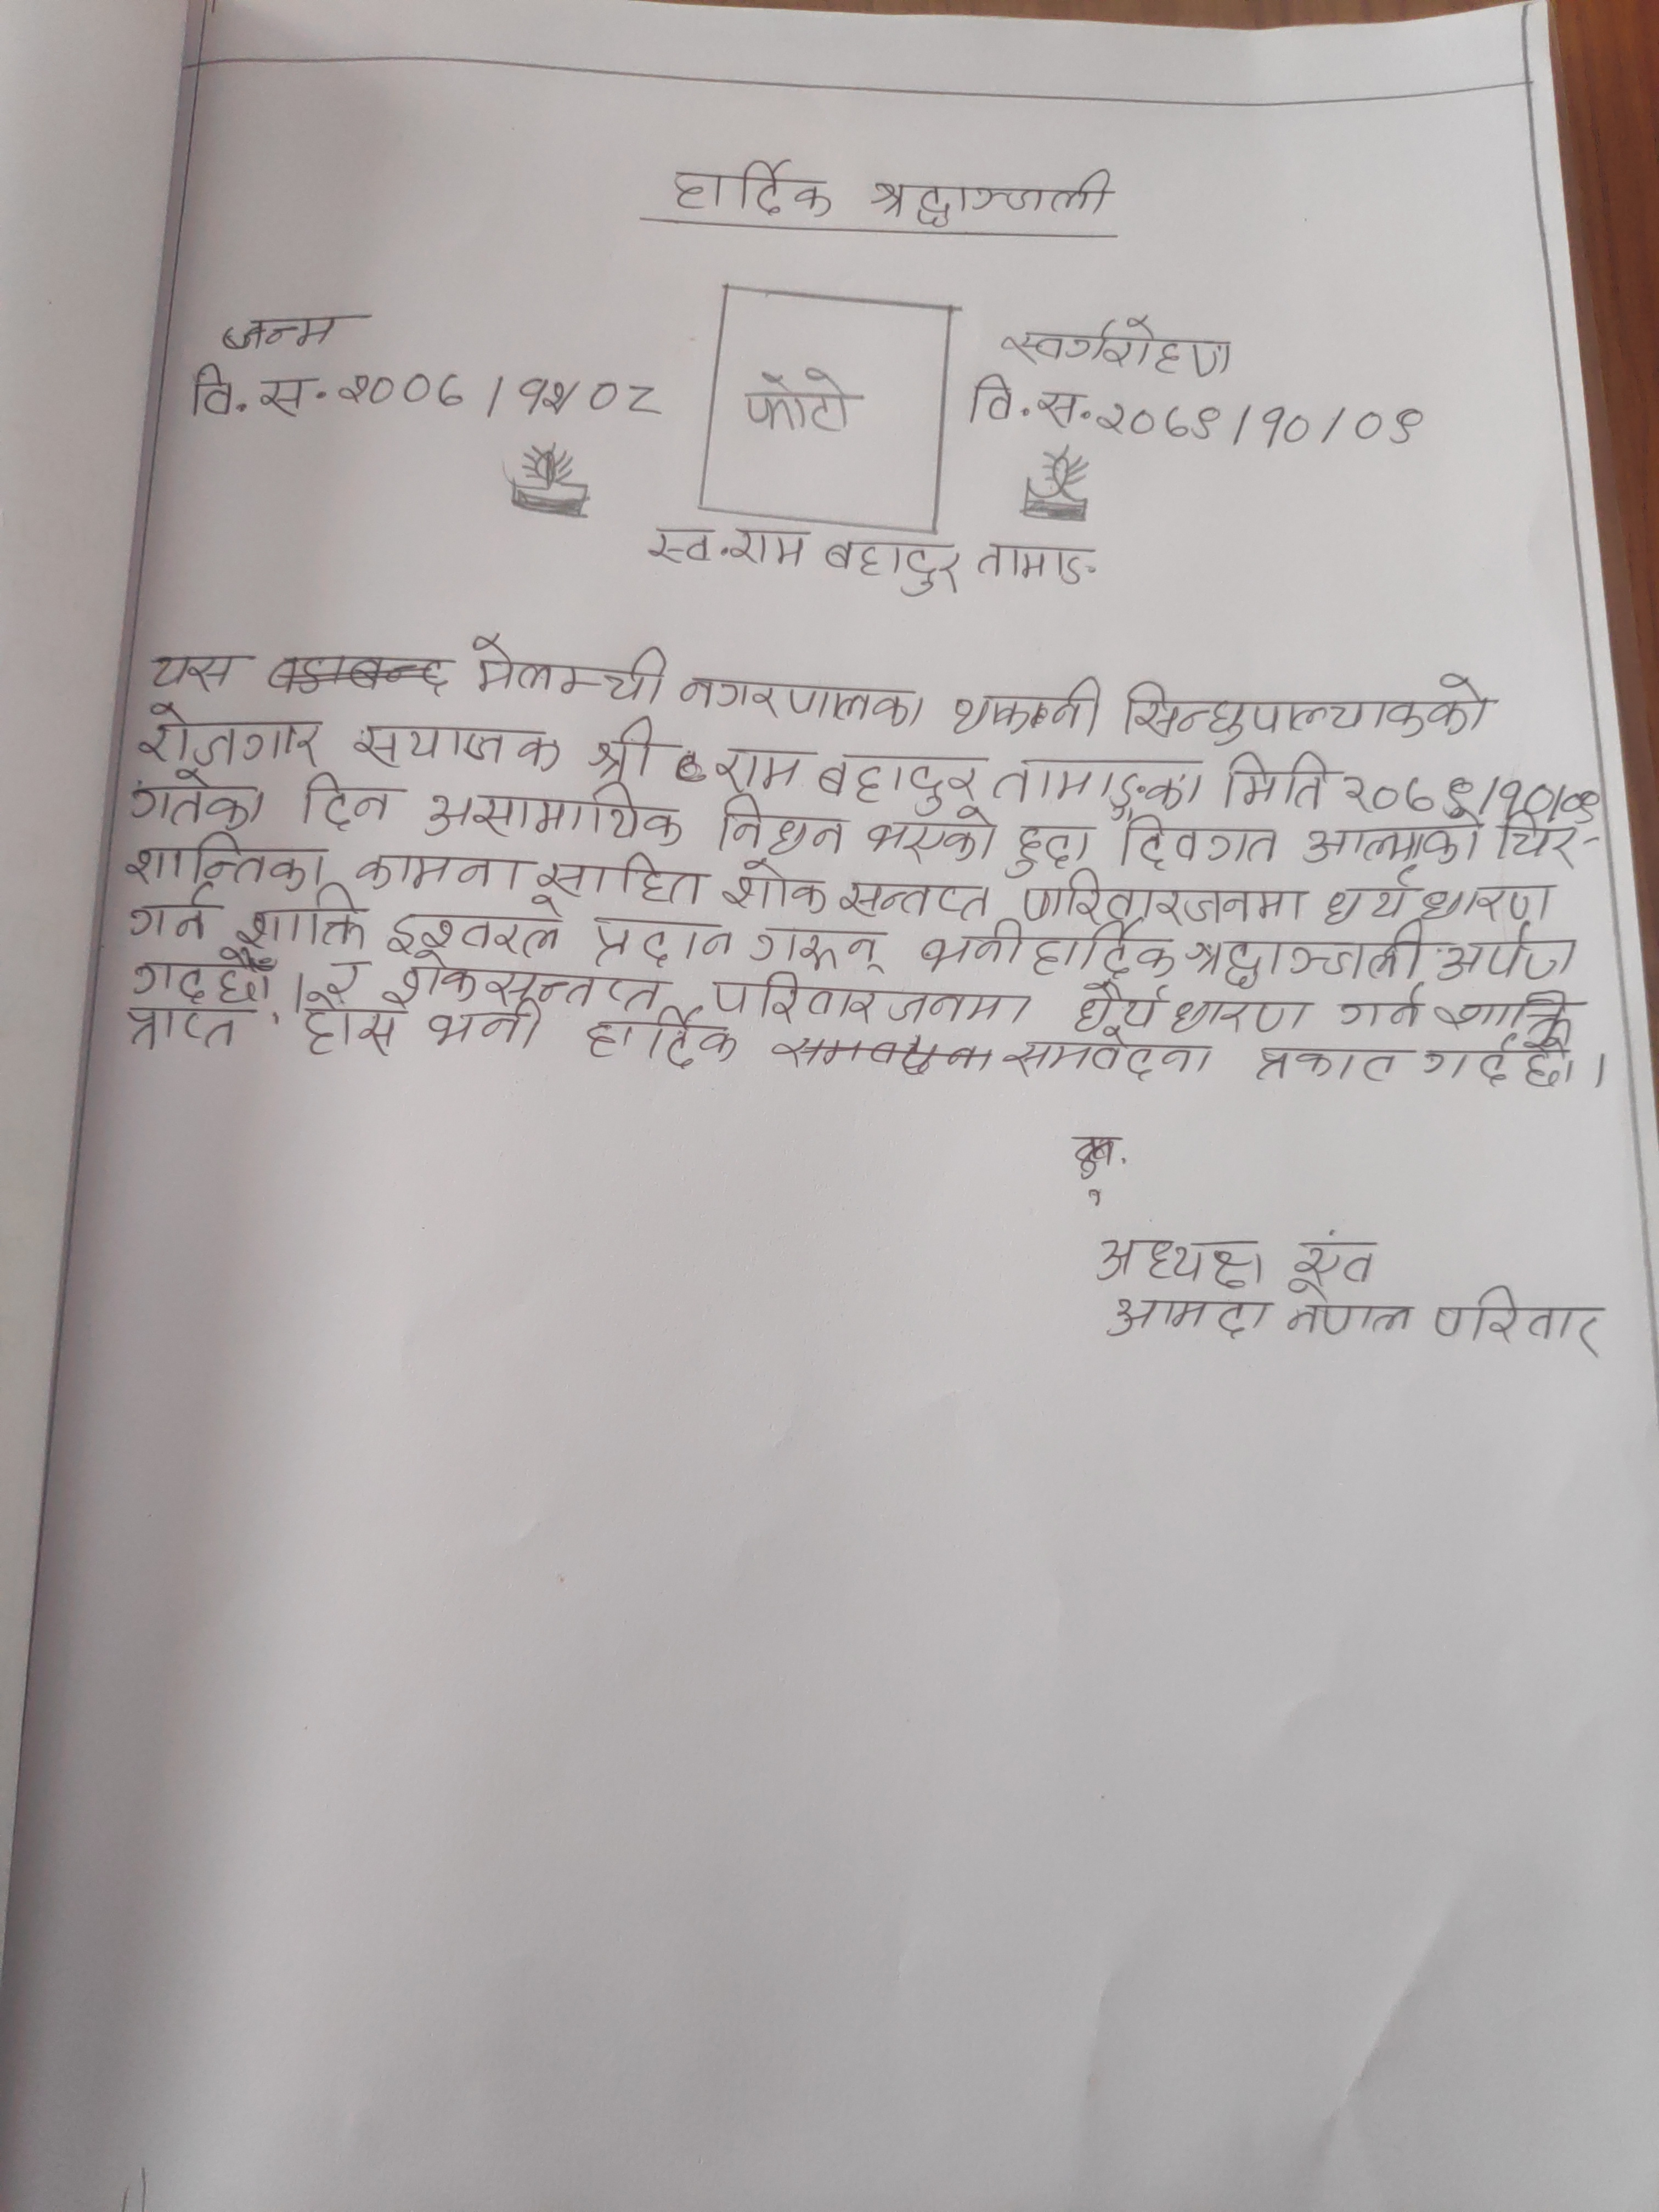text: (1119, 669, 1499, 745), (708, 970, 1032, 1038), (336, 366, 662, 423), (373, 949, 674, 1010), (1014, 869, 1310, 930), (1094, 397, 1425, 449), (422, 780, 683, 846), (1187, 920, 1432, 989), (460, 632, 669, 711), (1072, 975, 1312, 1043), (868, 167, 1119, 232), (995, 317, 1244, 381), (917, 927, 1183, 984), (1317, 869, 1563, 927), (1427, 1284, 1608, 1360), (988, 756, 1209, 819), (352, 712, 565, 777), (678, 671, 927, 725), (1344, 772, 1598, 824), (136, 698, 321, 770), (119, 831, 331, 892), (816, 740, 985, 813), (1000, 1029, 1215, 1082), (387, 900, 563, 961), (1093, 1228, 1267, 1289), (946, 676, 1107, 740), (1304, 808, 1483, 866), (579, 1008, 742, 1069), (662, 158, 835, 216), (352, 841, 528, 897), (1103, 1285, 1269, 1343), (1117, 813, 1283, 869), (823, 536, 965, 601), (708, 798, 850, 860), (540, 857, 711, 909), (587, 909, 732, 970), (125, 770, 267, 831), (1436, 925, 1581, 984), (1424, 1038, 1582, 1090), (122, 953, 279, 1005), (235, 890, 369, 951), (1276, 1280, 1417, 1338), (744, 920, 889, 975), (833, 874, 990, 925), (958, 378, 1094, 435), (741, 371, 857, 435), (1436, 989, 1579, 1042), (971, 535, 1103, 590), (1220, 749, 1331, 815), (190, 364, 317, 421), (864, 812, 999, 864), (293, 770, 401, 834), (721, 859, 830, 921), (1248, 1043, 1410, 1085), (423, 996, 545, 1050), (115, 1003, 249, 1050), (305, 993, 396, 1059), (218, 312, 366, 352), (124, 885, 213, 946), (1493, 810, 1581, 869), (143, 650, 256, 693), (1288, 1235, 1382, 1287), (1009, 817, 1094, 874), (587, 716, 657, 784), (713, 747, 803, 796), (1340, 984, 1427, 1033), (732, 521, 810, 573), (641, 521, 718, 566), (317, 956, 362, 1003)
